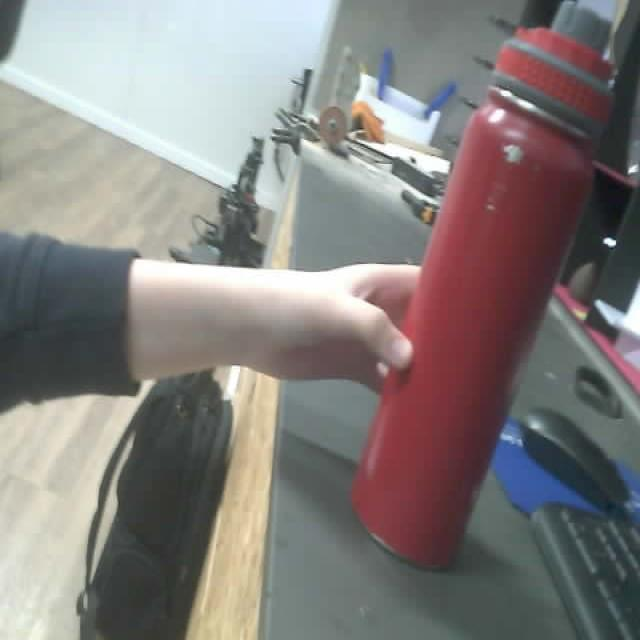water bottle: (350, 21, 621, 572)
